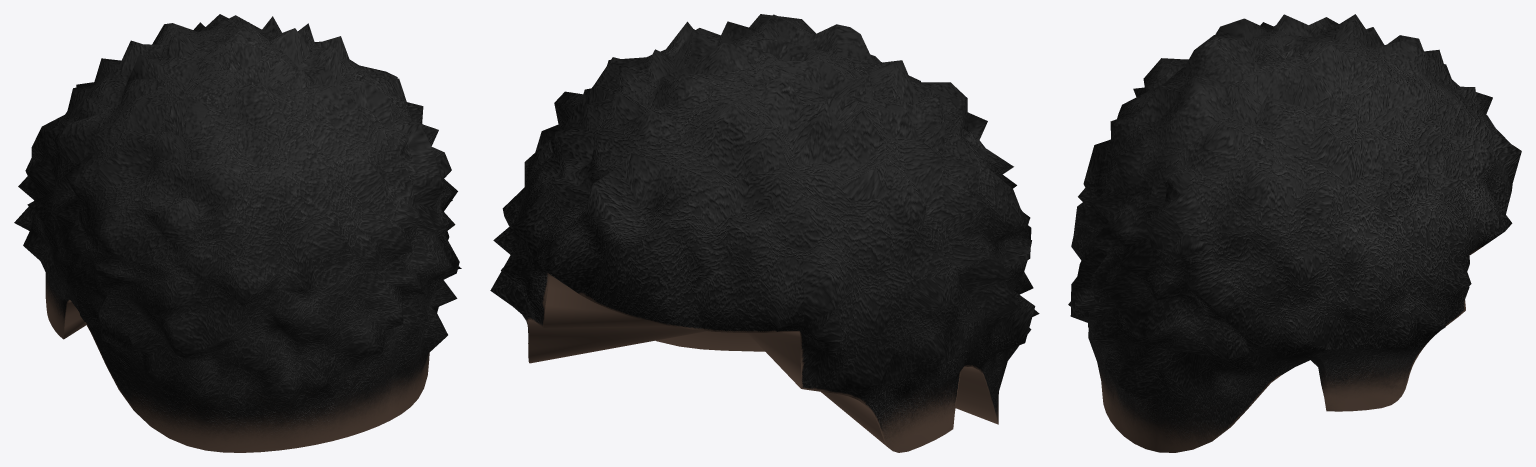
The picture shows the model from 3 angles, left to right: view 1: azimuth 30°, elevation 25°; view 2: azimuth 150°, elevation 25°; view 3: azimuth 270°, elevation 25°; orthographic projection. The views are drawn at different scales.
Visible parts, largest first — view 1: geometry_0; view 2: geometry_0; view 3: geometry_0.
Part boxes in pixels (left/top/right/bottom): geometry_0: left=14, top=14, right=461, bottom=452; geometry_0: left=490, top=14, right=1039, bottom=452; geometry_0: left=1068, top=14, right=1521, bottom=452.
Bounding box in the file's own units: 1.39 × 1.18 × 1.34.
1 material, 1 textured.
